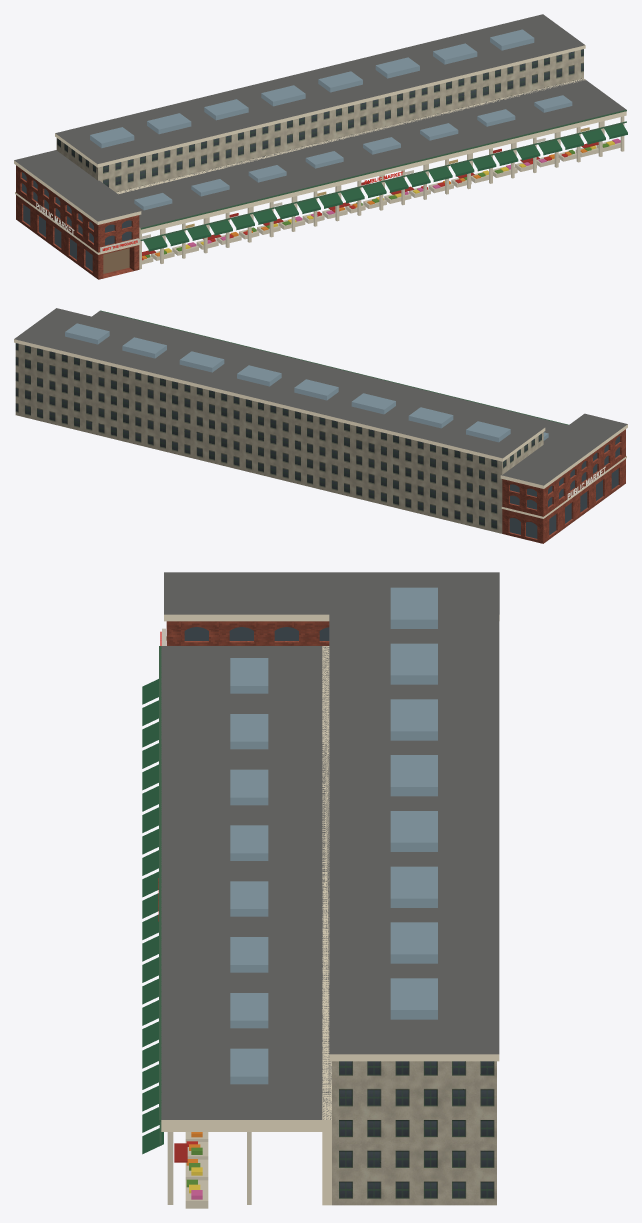
File: pike_place_market.glb
3 views of the same model, one above another, from view 1: azimuth 30°, elevation 25°; view 2: azimuth 150°, elevation 25°; view 3: azimuth 270°, elevation 25° (orthographic). The views are drawn at different scales.
Visible parts, largest first — view 1: pike_place_market; view 2: pike_place_market; view 3: pike_place_market.
Boxes of the visible parts, left/top/right/bottom form: pike_place_market: left=14, top=14, right=627, bottom=279; pike_place_market: left=14, top=308, right=627, bottom=543; pike_place_market: left=142, top=572, right=499, bottom=1208.
Bounding box in the file's own units: 130 × 18.9 × 37.89.
Materials: 3 (3 with a texture image).
